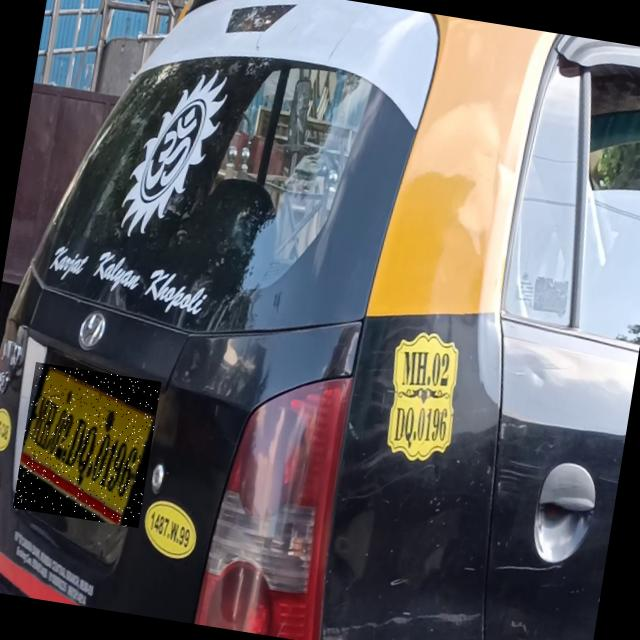Plate: (14, 364, 163, 530)
